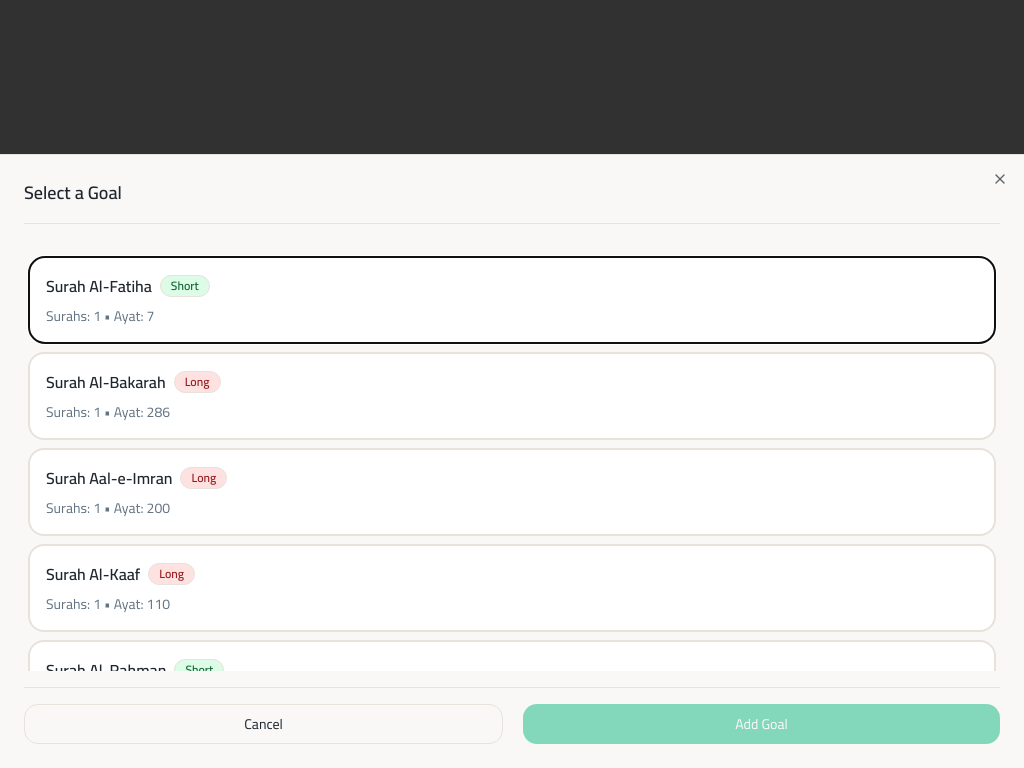
AddGoalModal › Goal Selection Tests › should show checkmark icon when goal is selected
Click the button "Surah Al-Fatiha Short Surahs: 1 • Ayat: 7": [99, 286] box [28,256,996,344]
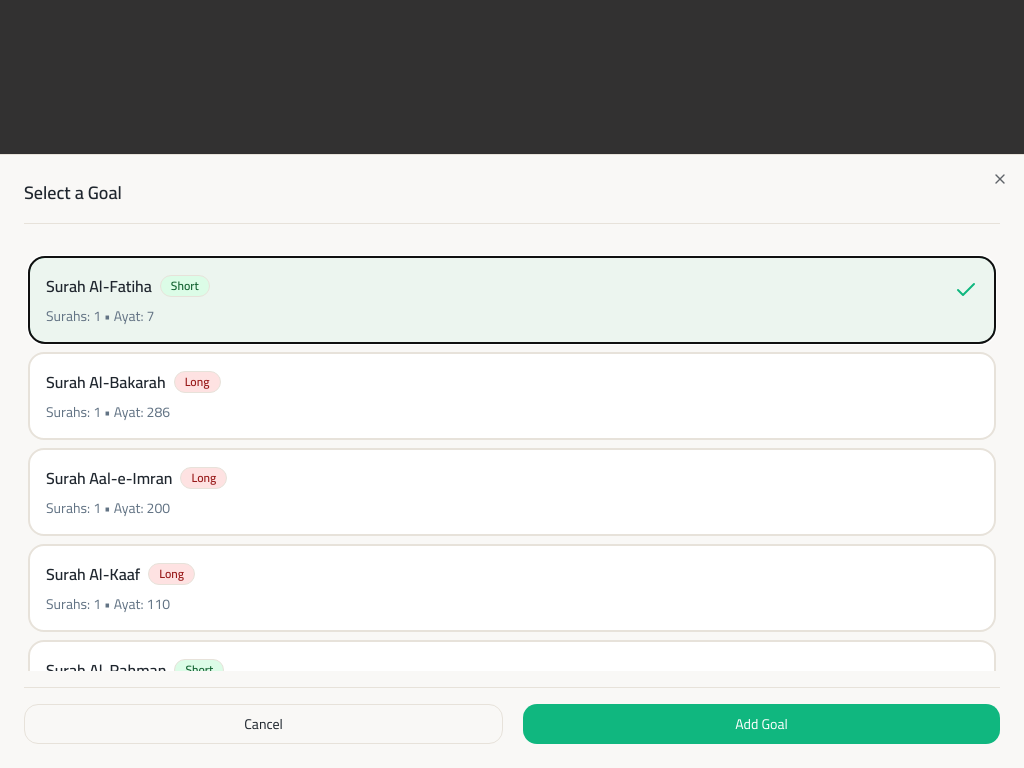
Check: the 2nd icon is shown, box [954,278,978,302]
